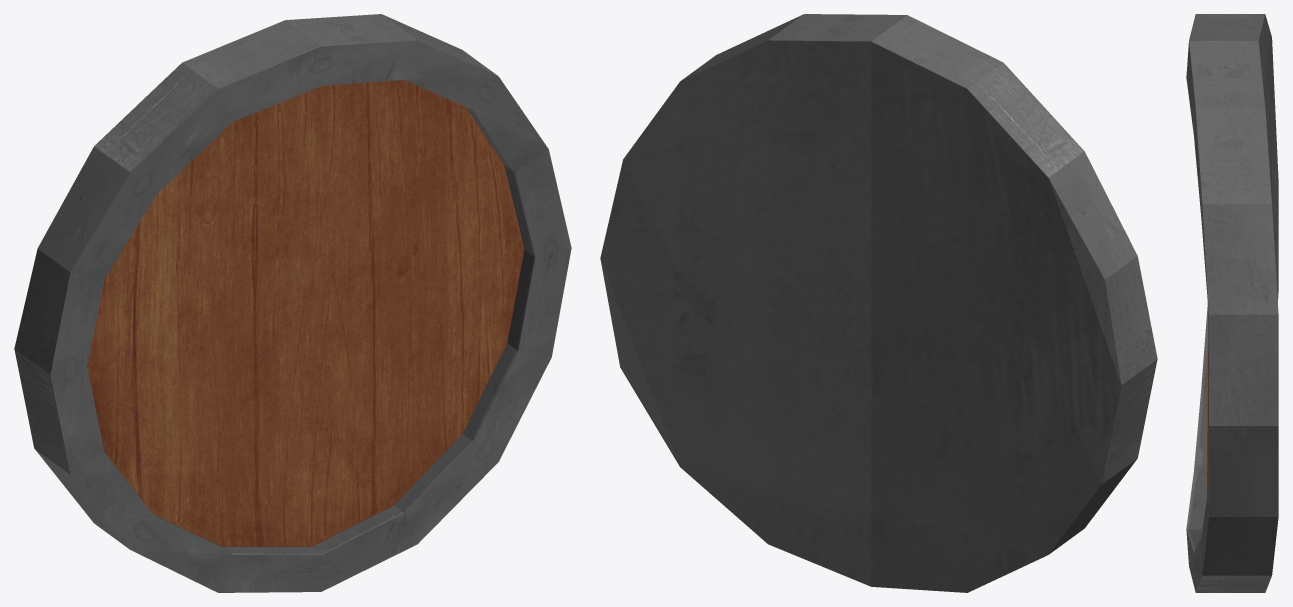
File: Round Shield.fbx
The picture shows the model from 3 angles, left to right: view 1: azimuth 30°, elevation 25°; view 2: azimuth 150°, elevation 25°; view 3: azimuth 270°, elevation 25°; orthographic projection. The views are drawn at different scales.
Parts seen in each view (by area): view 1: Round_Shield; view 2: Round_Shield; view 3: Round_Shield.
Part boxes in pixels (left/top/right/bottom): Round_Shield: left=14, top=14, right=571, bottom=592; Round_Shield: left=600, top=14, right=1157, bottom=592; Round_Shield: left=1186, top=14, right=1278, bottom=592.
Size of the model in its own units: 116 by 116 by 18.44.
